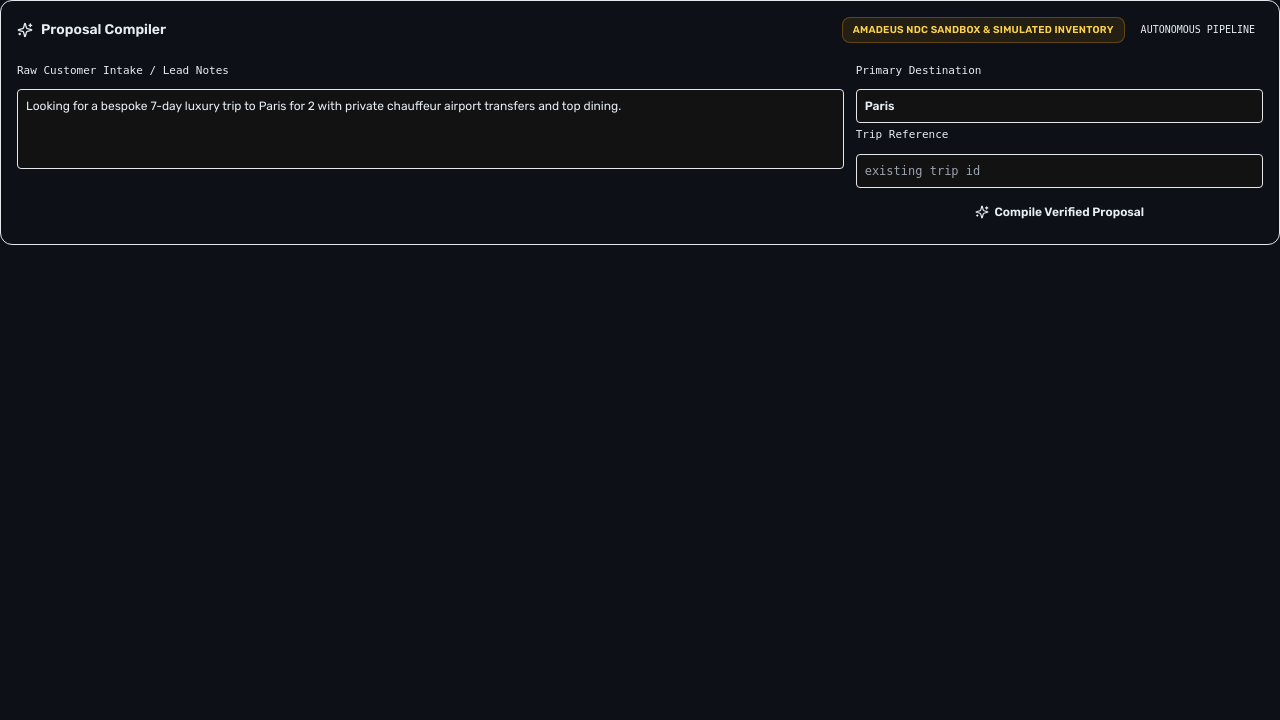
ProposalCompilerPanel honesty (PA-25) › renders the compiled package with reality metadata, sample-data notice, and no fulfill chain
Expected: the button "Compile Verified Proposal" is disabled, [856,196,1263,228]
Type "trip-test-01" into the field named "trip reference" at (1059, 171), box [856,154,1263,188]
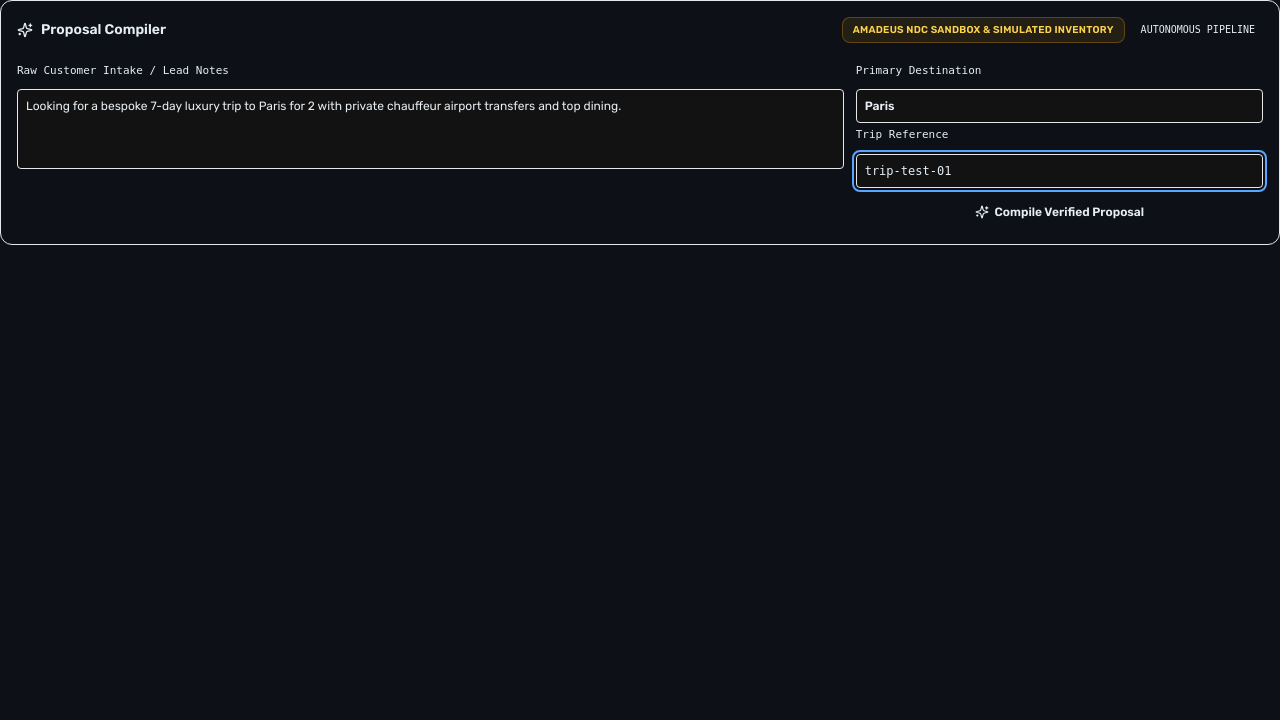
Click the button "Compile Verified Proposal" at (1059, 212), box [856,196,1263,228]
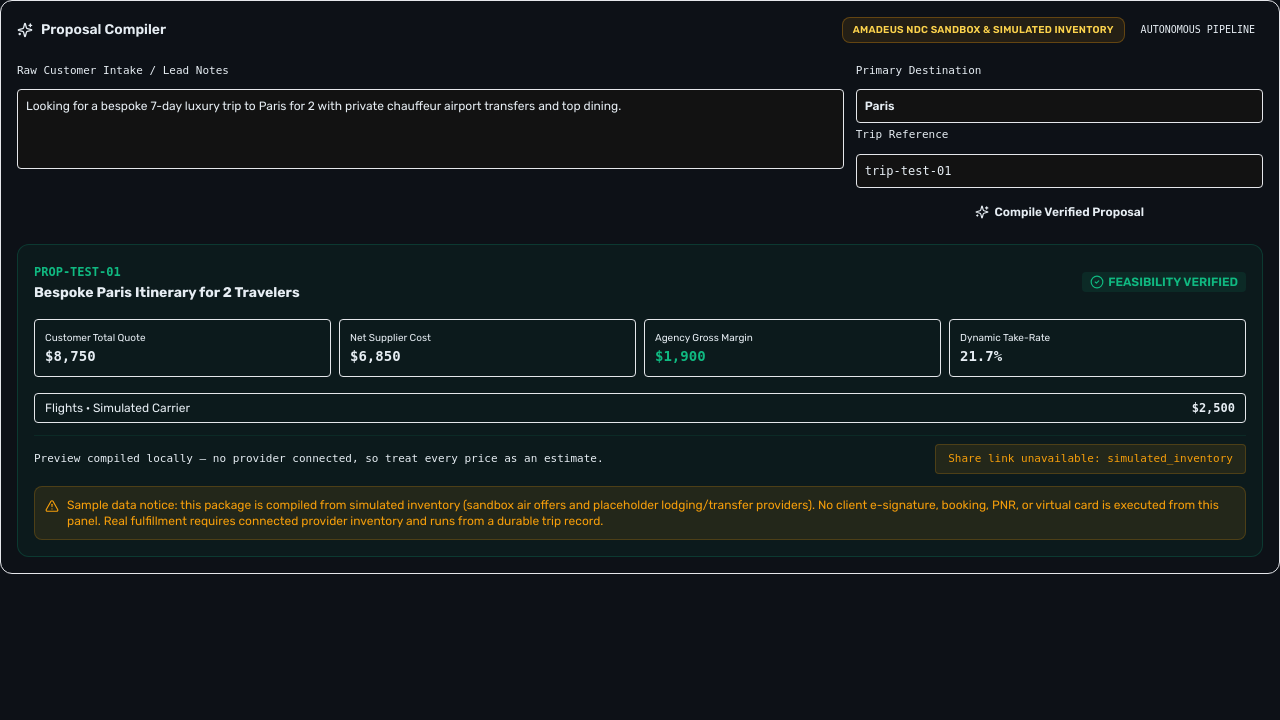
Expected: the text "PROP-TEST-01" is shown, [34,265,121,279]
Expected: the text "treat every price as an estimate" is shown, [34,452,604,465]
Expected: the text "Share link unavailable: simulated_inventory" is shown, [935,444,1246,474]
